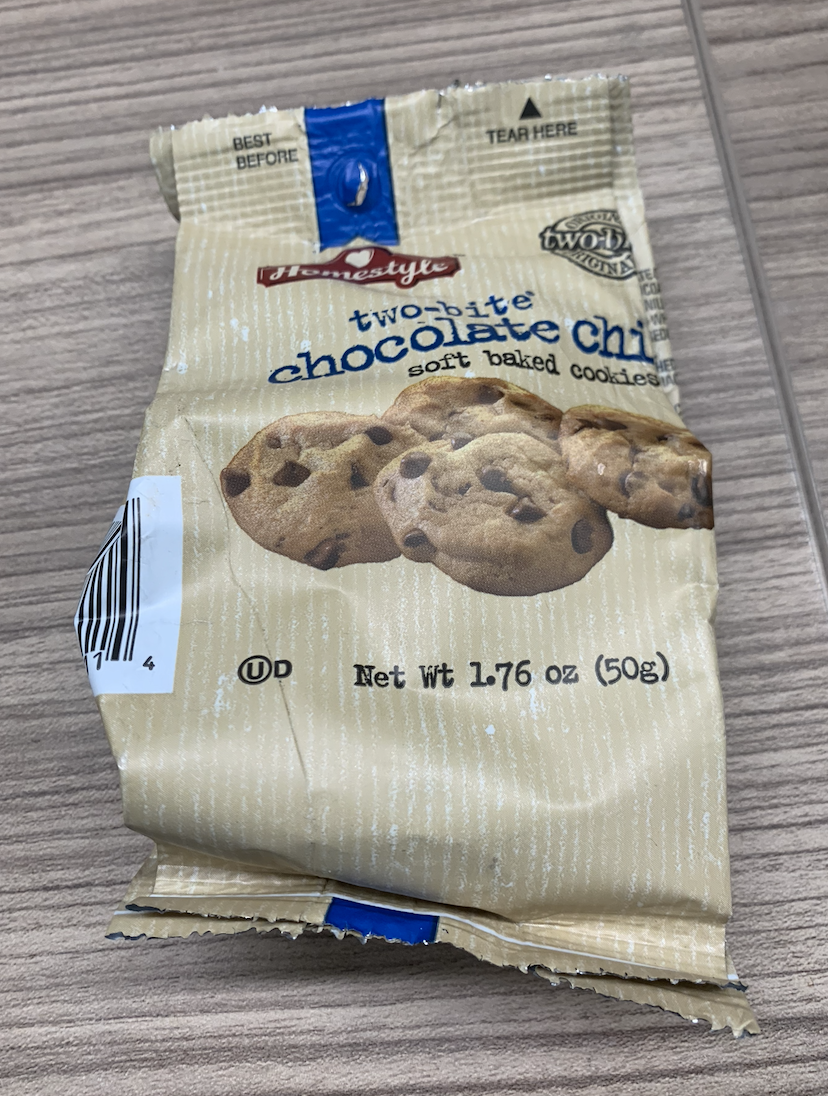cookies_50g: (213, 161, 687, 936)
